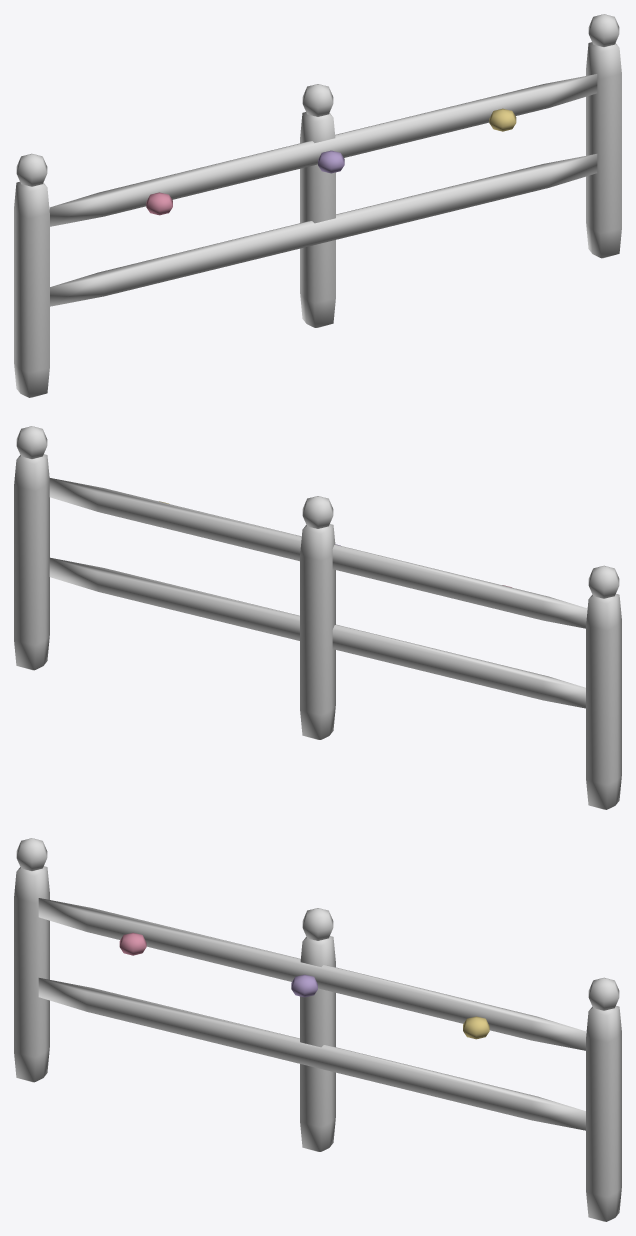
Rendered from fence_rail.gltf.
3 views of the same model, one above another, from view 1: azimuth 30°, elevation 25°; view 2: azimuth 150°, elevation 25°; view 3: azimuth 330°, elevation 25° (orthographic).
Visible parts, largest first — view 1: fence_rail; view 2: fence_rail; view 3: fence_rail.
Part boxes in pixels (x1,y1,x2,y2): fence_rail: (14, 14, 621, 397); fence_rail: (14, 426, 621, 809); fence_rail: (14, 838, 621, 1221).
Size of what is drawn, in the model's own units: 3.16 by 1.22 by 0.2499.
